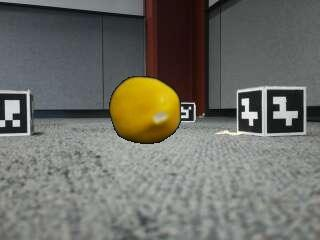lemon: (109, 77, 179, 144)
